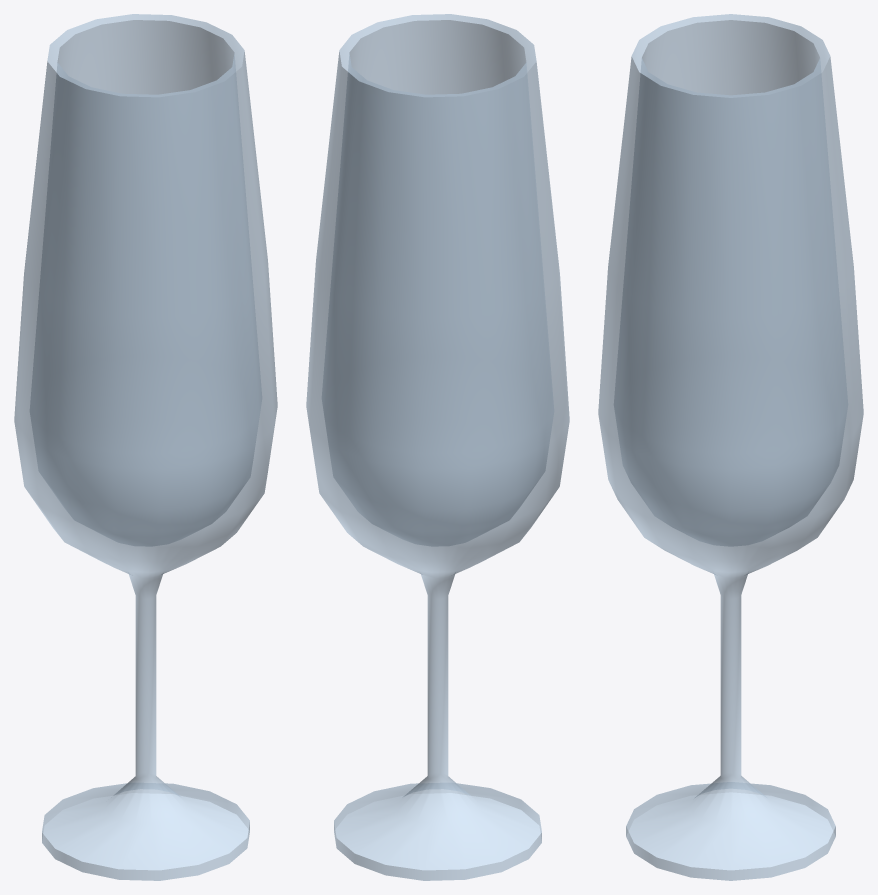
Rendered from ChampagneGlass.FBX.
The picture shows the model from 3 angles, left to right: view 1: azimuth 30°, elevation 25°; view 2: azimuth 150°, elevation 25°; view 3: azimuth 270°, elevation 25°; orthographic projection.
Visible parts, largest first — view 1: ChampagneGlass; view 2: ChampagneGlass; view 3: ChampagneGlass.
Part boxes in pixels (bbox=[...]): ChampagneGlass: bbox=[14, 14, 277, 880]; ChampagneGlass: bbox=[306, 14, 569, 880]; ChampagneGlass: bbox=[598, 14, 863, 880].
Bounding box in the file's own units: 25.83 × 83.79 × 25.83.
